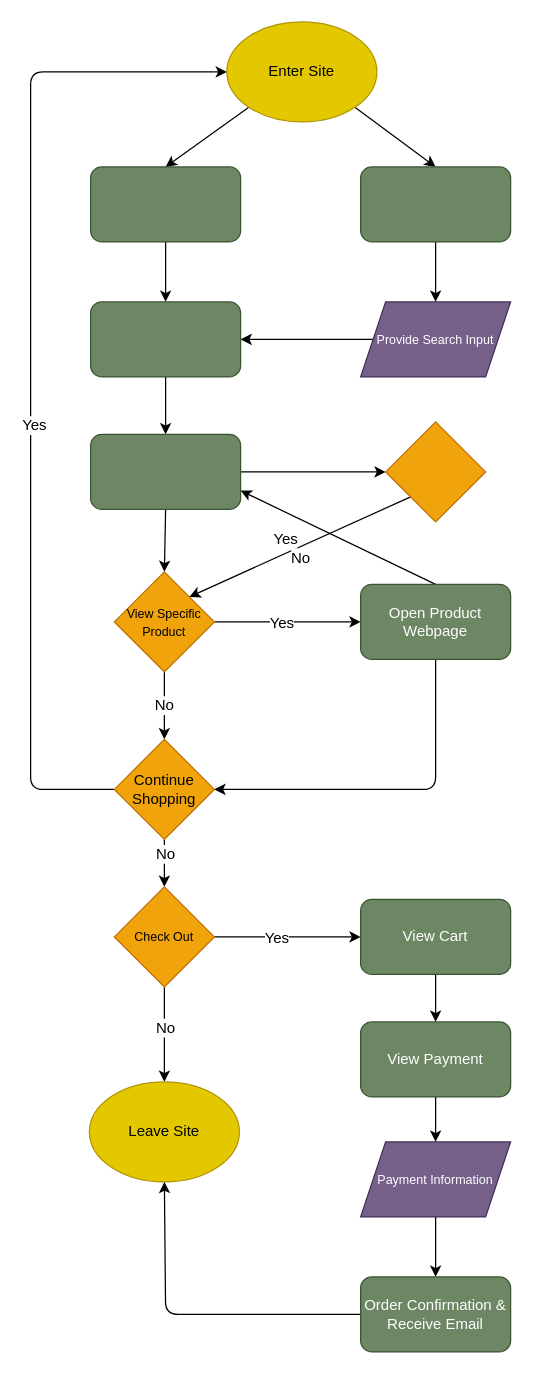
The diagram is 533 pixels wide and 1374 high, and some of its shapes have lost their labels. The shapes that lost their labels are listed below. From the top down, each one's box as (x1, y1, x2, y2) in pixels, then its label:
(89, 166, 241, 242): Explore Products
(359, 166, 511, 242): Search for Products
(89, 301, 241, 377): Look Over Prodects
(89, 433, 241, 509): Add to Cart Confirmation
(384, 421, 486, 522): Add item to Cart
